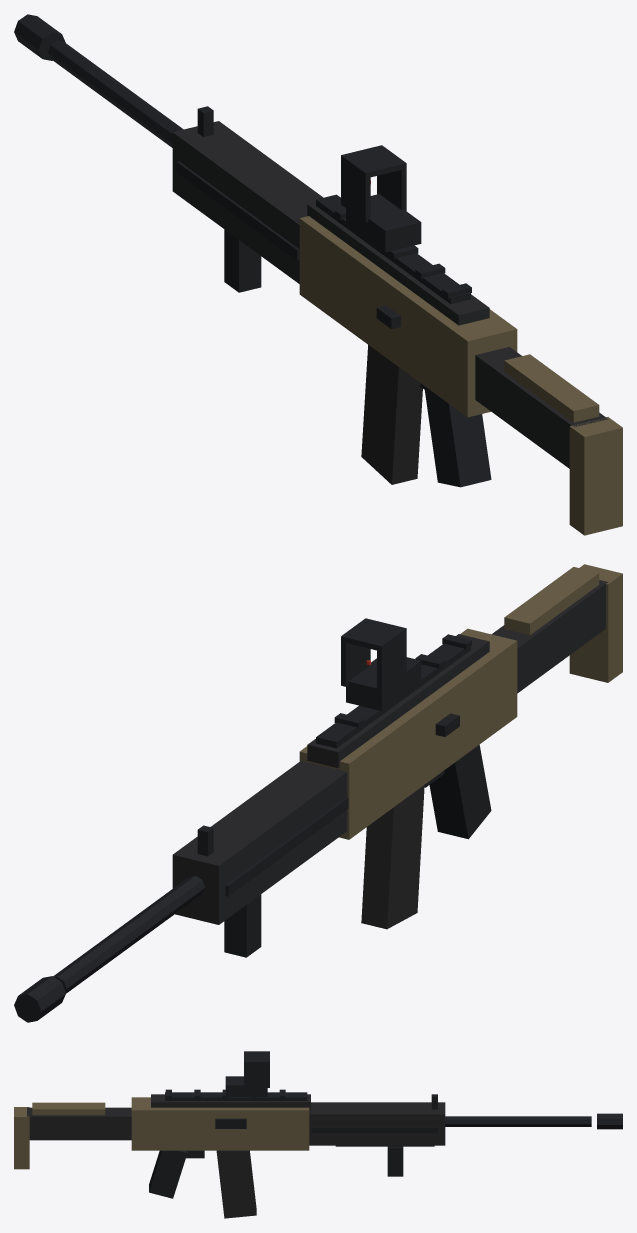
Rendered from weapon_556xi.glb.
The picture shows the model from 3 angles, top to bottom: view 1: azimuth 30°, elevation 25°; view 2: azimuth 150°, elevation 25°; view 3: azimuth 270°, elevation 25°; orthographic projection. The views are drawn at different scales.
Parts seen in each view (by area): view 1: body, mag; view 2: body, mag; view 3: body, mag.
Boxes of the visible parts, <box> form: body: <box>14,14,622,535</box>; mag: <box>361,345,422,484</box>; body: <box>14,564,622,1022</box>; mag: <box>361,785,424,929</box>; body: <box>14,1051,622,1198</box>; mag: <box>216,1150,256,1218</box>.
Size of the model in its own units: 0.074 by 0.3348 by 1.16.
